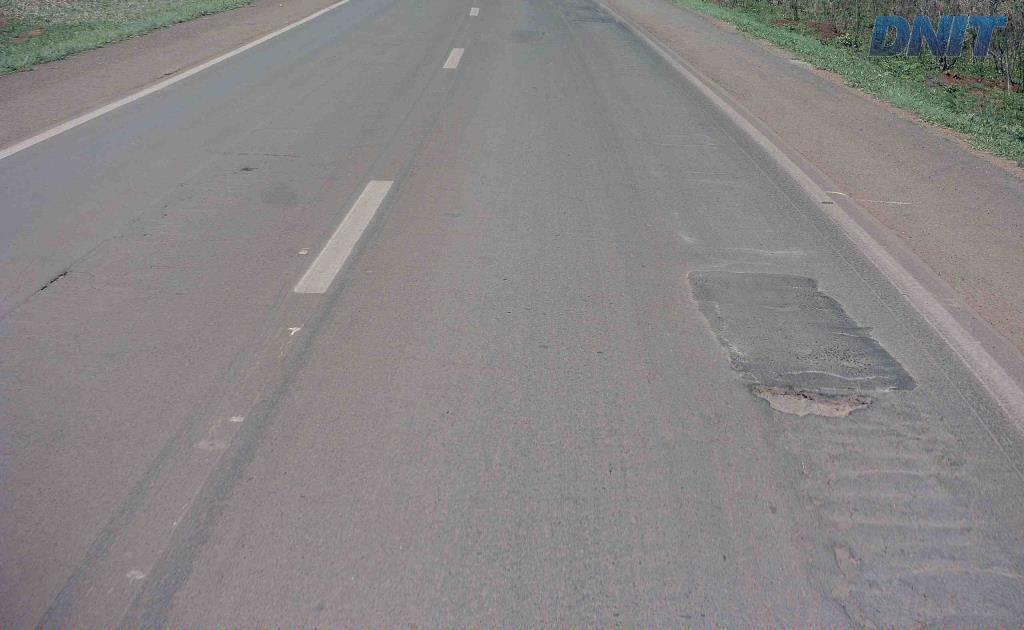pothole: (750, 374, 887, 431)
